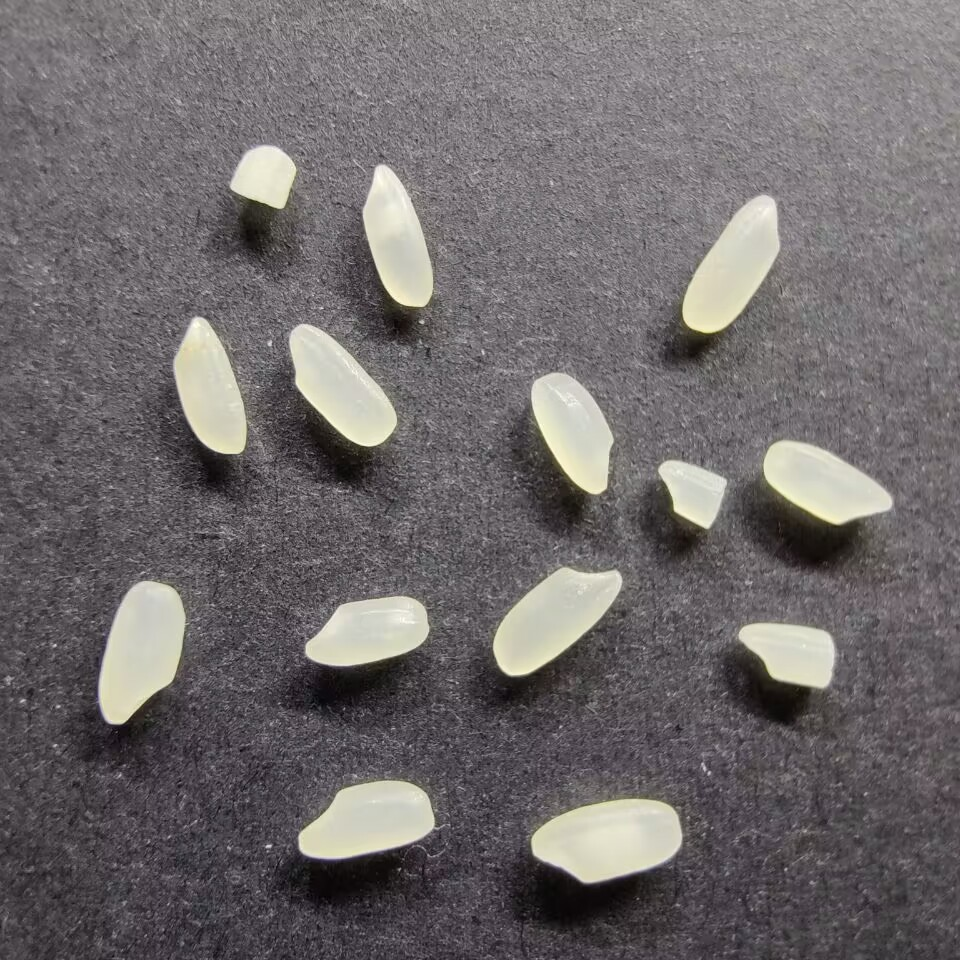broken: (735, 618, 838, 692), (657, 455, 731, 532), (225, 141, 299, 212)
rice: (490, 564, 625, 677), (679, 190, 784, 335), (286, 321, 400, 449), (528, 797, 683, 884), (97, 579, 188, 726), (292, 778, 437, 861), (761, 438, 894, 526), (358, 162, 435, 308), (170, 313, 248, 456), (530, 370, 616, 496), (298, 594, 431, 667)
